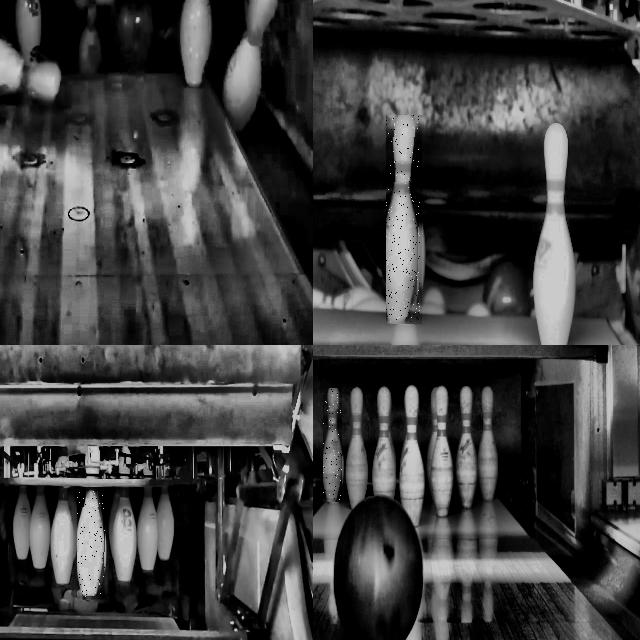bowling-ball: (334, 495, 423, 640), (483, 261, 531, 317)
bowling-pins: (534, 123, 576, 345), (387, 115, 420, 323), (400, 385, 425, 526), (430, 386, 454, 516), (77, 487, 105, 597), (456, 386, 478, 508), (346, 387, 368, 508), (373, 386, 396, 498), (112, 487, 137, 581), (50, 487, 74, 584), (478, 386, 498, 501), (323, 388, 342, 500), (30, 485, 51, 568), (138, 486, 158, 570), (13, 486, 31, 560), (157, 486, 174, 559), (427, 387, 438, 490)
